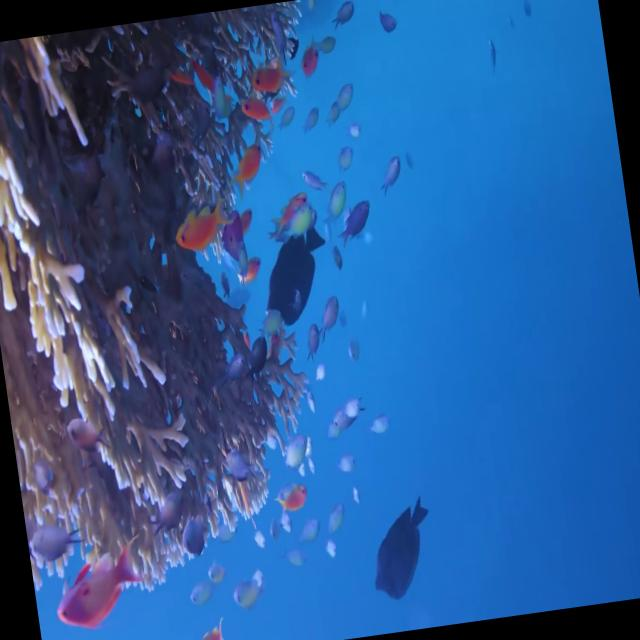fish: (40, 523, 154, 637), (242, 215, 342, 334), (360, 488, 448, 605), (161, 196, 242, 263), (208, 185, 266, 276), (26, 512, 98, 576), (223, 552, 279, 624), (216, 145, 274, 201), (332, 194, 383, 254), (271, 476, 317, 530), (202, 64, 238, 132), (368, 140, 408, 200), (248, 54, 298, 98), (324, 72, 364, 126), (318, 483, 355, 538), (317, 177, 358, 226), (234, 93, 276, 138), (186, 578, 227, 620), (325, 0, 362, 46), (153, 52, 197, 90), (276, 431, 312, 476), (361, 399, 398, 440), (211, 550, 238, 588), (194, 624, 224, 640)
